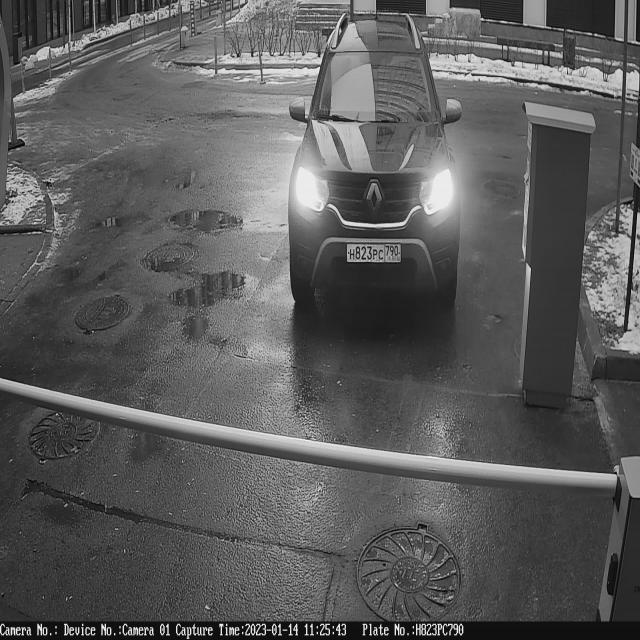car-plate-numbers: (344, 238, 405, 272)
